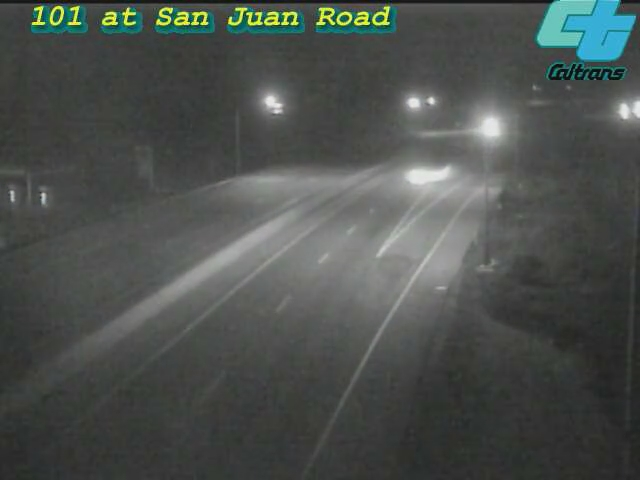vehicle: (378, 137, 458, 217), (463, 102, 513, 152), (598, 86, 640, 136), (611, 84, 640, 134)
